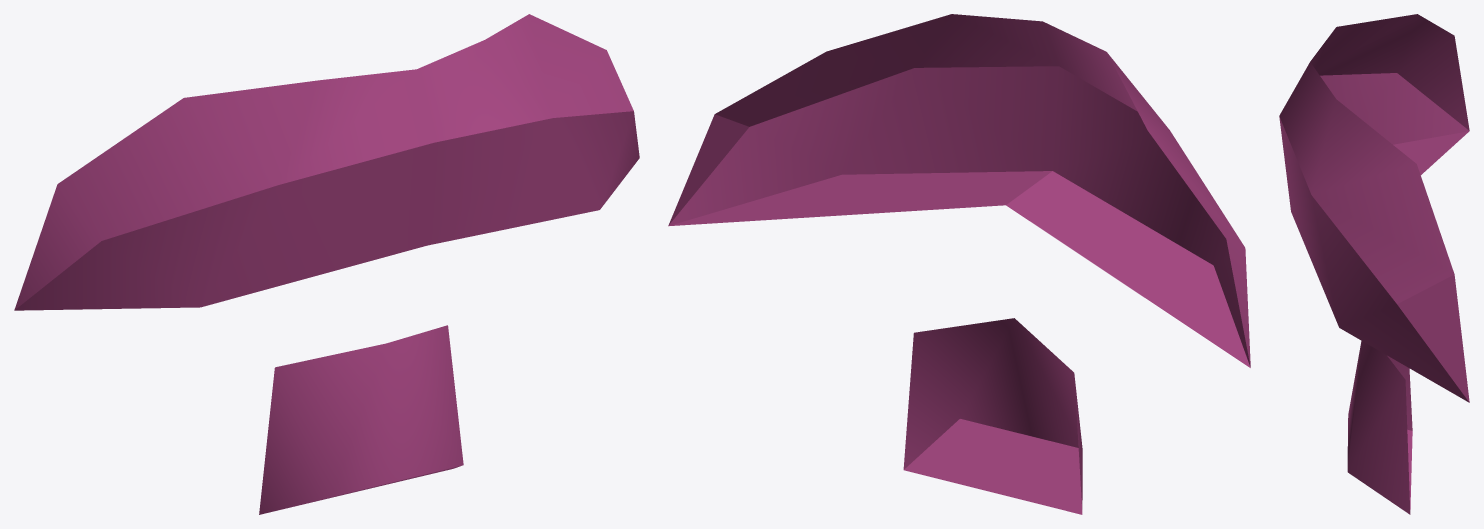
File: Male_Mustache_02_v3.fbx
3 renders of one model, left to right at view 1: azimuth 30°, elevation 25°; view 2: azimuth 150°, elevation 25°; view 3: azimuth 270°, elevation 25°, orthographic. The views are drawn at different scales.
Visible parts, largest first — view 1: Male_Mustache_02_v3; view 2: Male_Mustache_02_v3; view 3: Male_Mustache_02_v3.
Boxes of the visible parts, x1,y1,x2,y2 form: Male_Mustache_02_v3: (14,14,639,514); Male_Mustache_02_v3: (668,14,1250,514); Male_Mustache_02_v3: (1279,14,1469,514).
Size of the model in its own units: 22.73 by 16.09 by 6.73.
